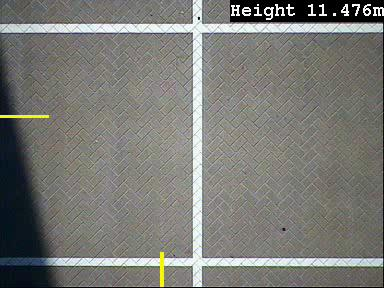groundmarker_2: (199, 146, 248, 209)
